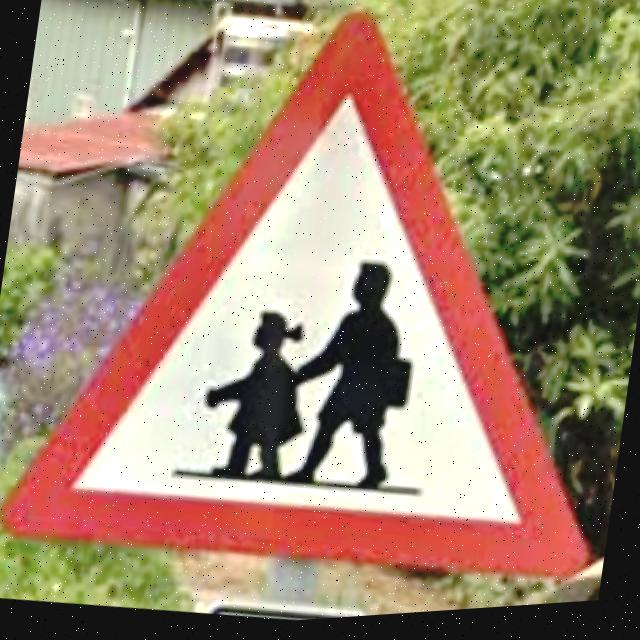childrencross: (1, 18, 587, 586)
